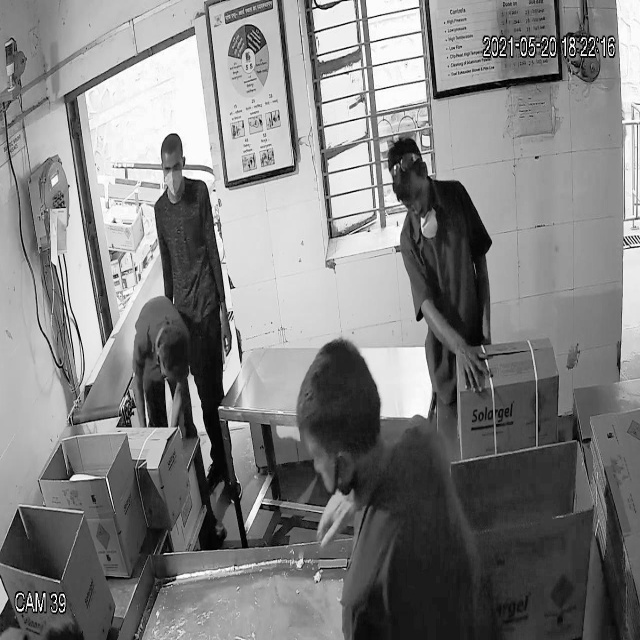Sin_gafas: (160, 159, 186, 178)
